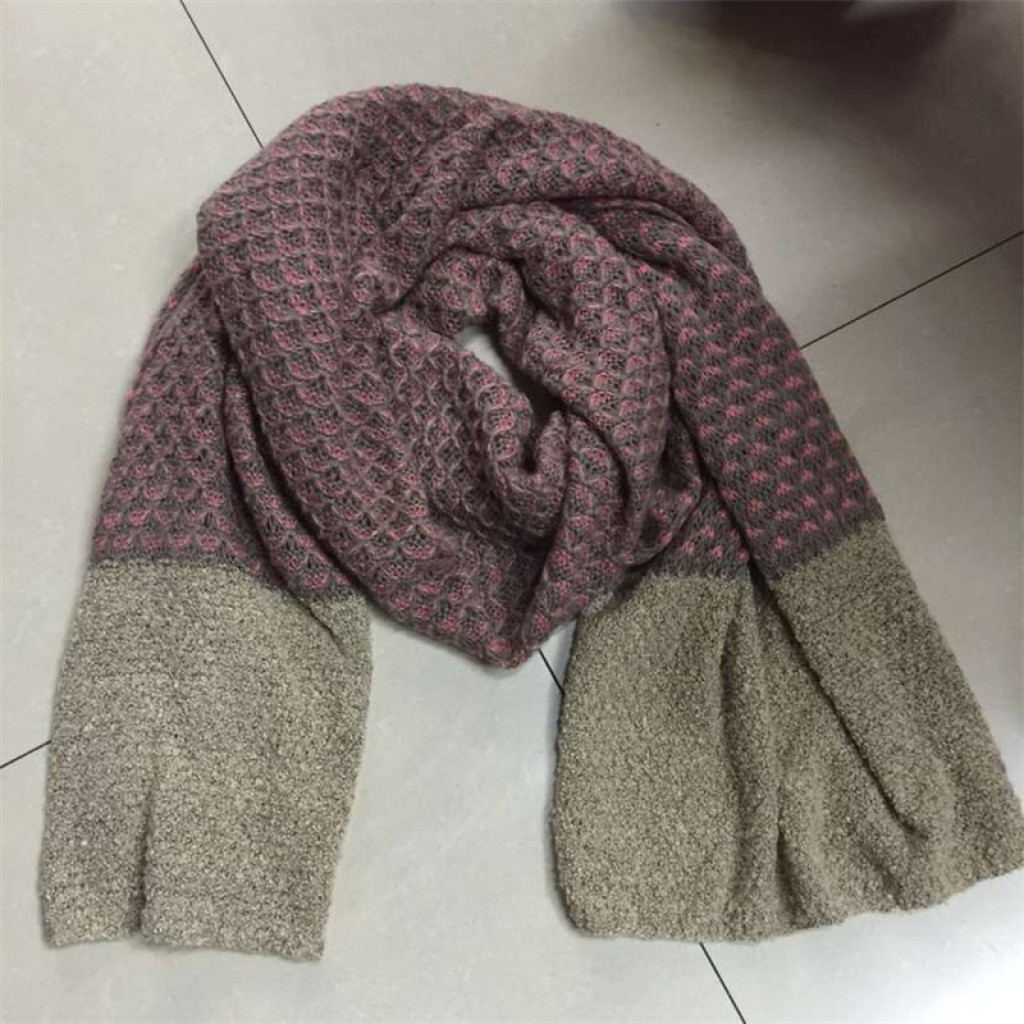flexible: (37, 70, 1024, 985)
